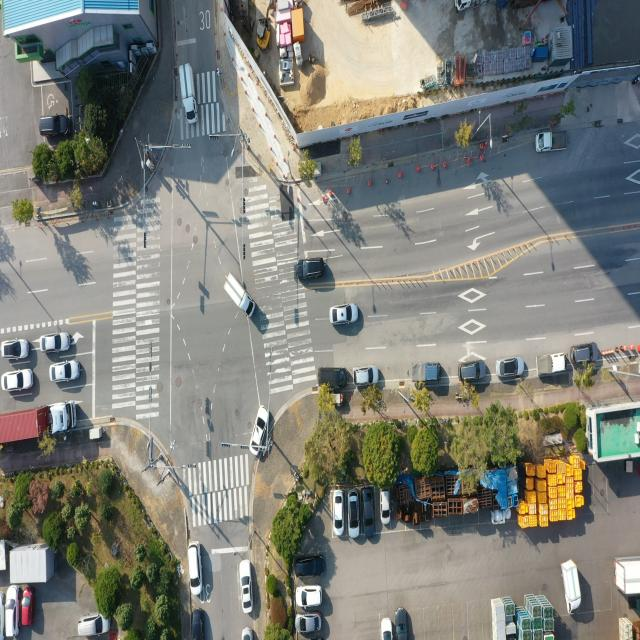car: (250, 404, 270, 455), (76, 613, 108, 640), (4, 585, 19, 639), (3, 368, 34, 392), (39, 113, 70, 137), (318, 367, 348, 391), (297, 556, 326, 580), (496, 355, 525, 379), (40, 332, 69, 355), (188, 543, 200, 597), (298, 259, 326, 282), (459, 361, 487, 384), (52, 362, 81, 384), (361, 488, 374, 537), (241, 561, 253, 614), (348, 491, 361, 539), (2, 340, 30, 362), (353, 364, 379, 387), (571, 344, 598, 366), (332, 305, 359, 325), (20, 588, 33, 628), (335, 491, 346, 537), (299, 588, 323, 608), (299, 616, 323, 636), (395, 608, 408, 640), (191, 607, 203, 640), (380, 490, 390, 524), (382, 618, 394, 640), (240, 628, 251, 640)
large_truck: (0, 400, 74, 445)
medium_truck: (456, 0, 492, 10)
small_truck: (225, 272, 256, 320), (561, 559, 582, 614), (179, 63, 196, 122), (410, 359, 442, 384), (538, 353, 569, 378), (537, 132, 570, 154)
